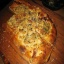pizza: (3, 1, 57, 62)
